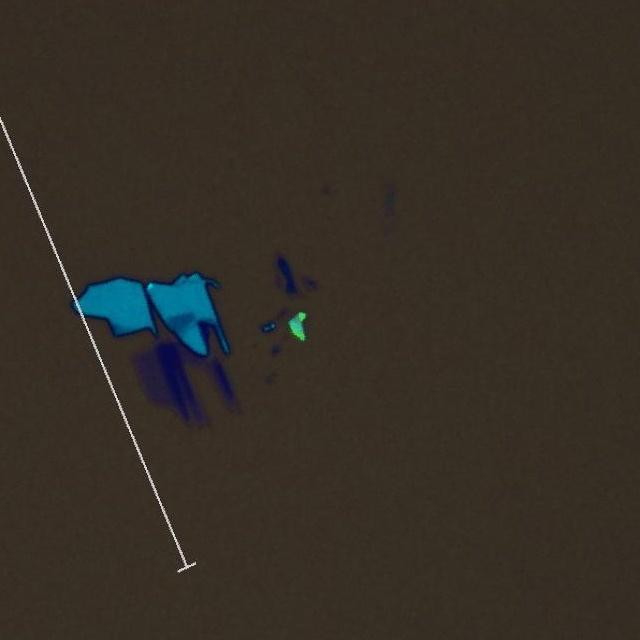monolayer-eWW4: (131, 348, 173, 408)
